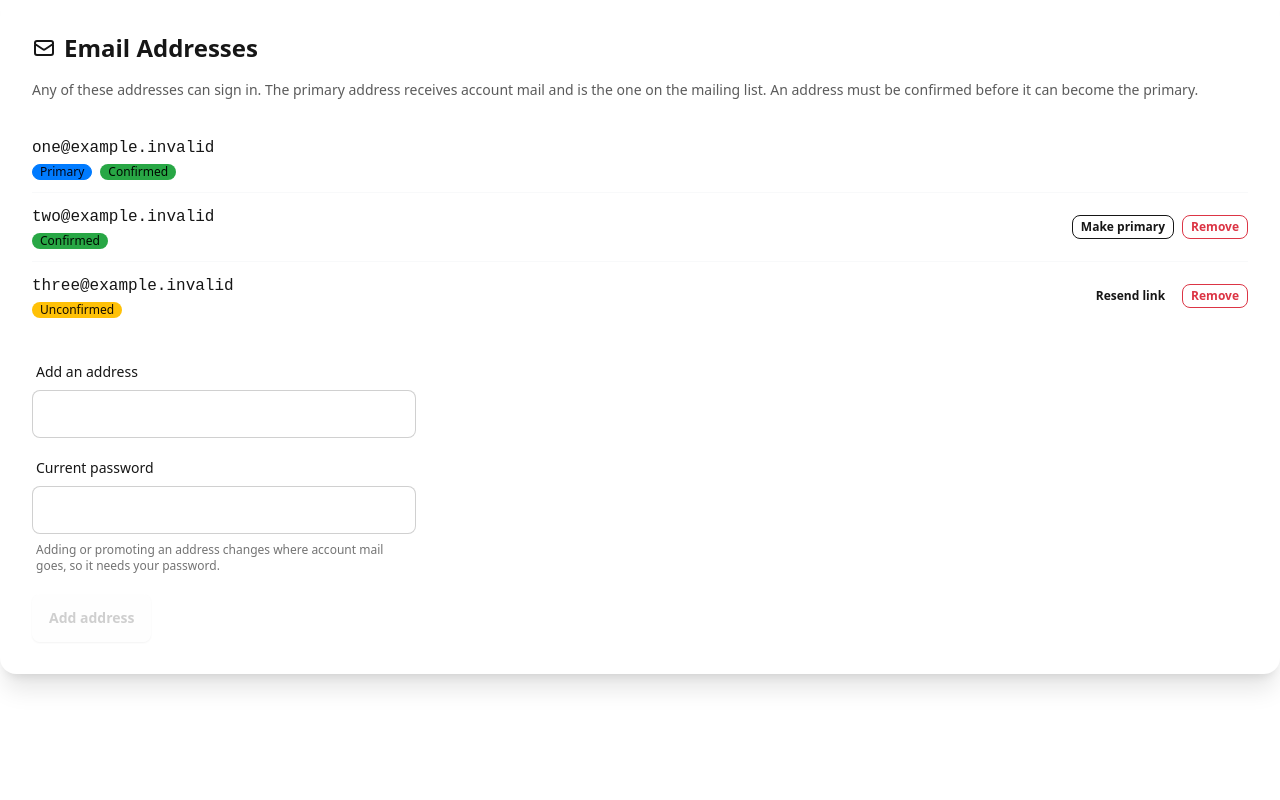
Scenario: EmailAddressesCard › sends the current password with a self-service add, and reloads
Type "  three@example.invalid " into the field.
click(224, 414); type("  three@example.invalid ")  # box [32,390,416,438]
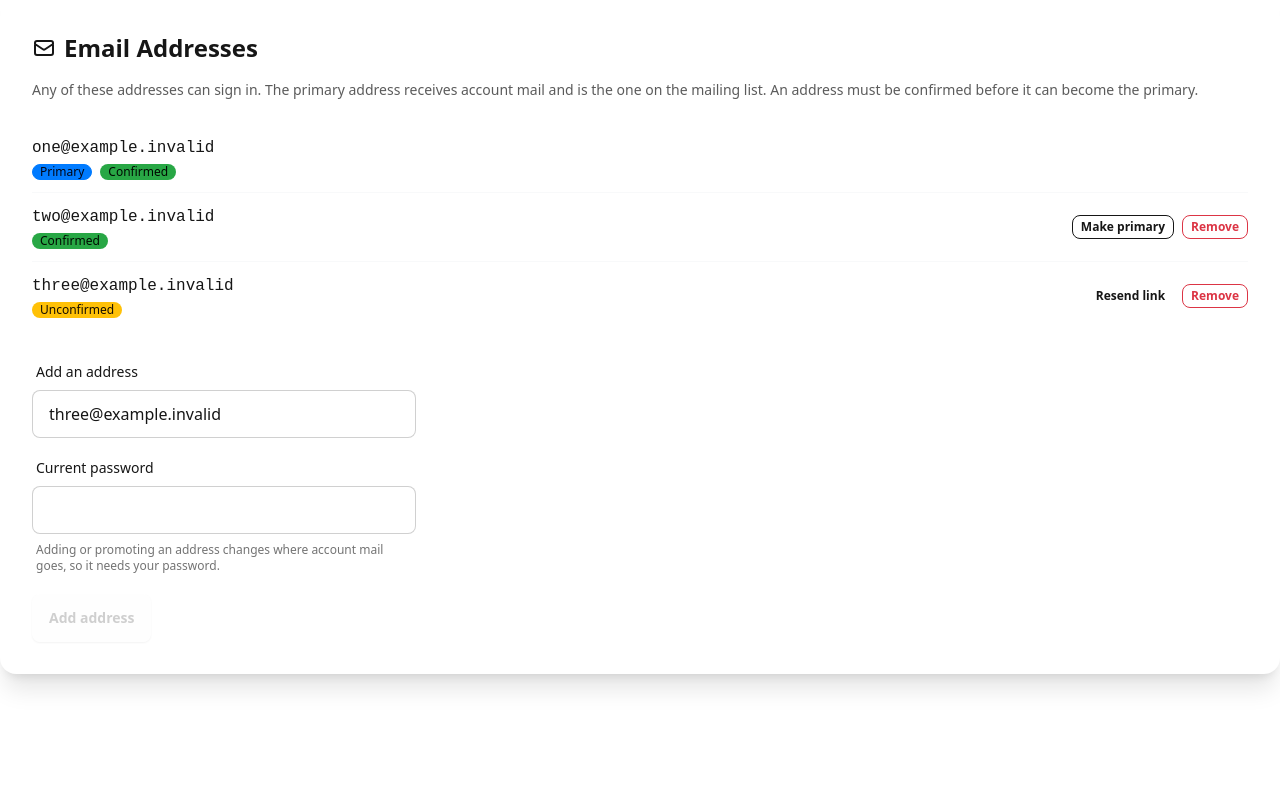
Type "hunter2hunter2" into the password field.
click(224, 510); type("hunter2hunter2")  # box [32,486,416,534]
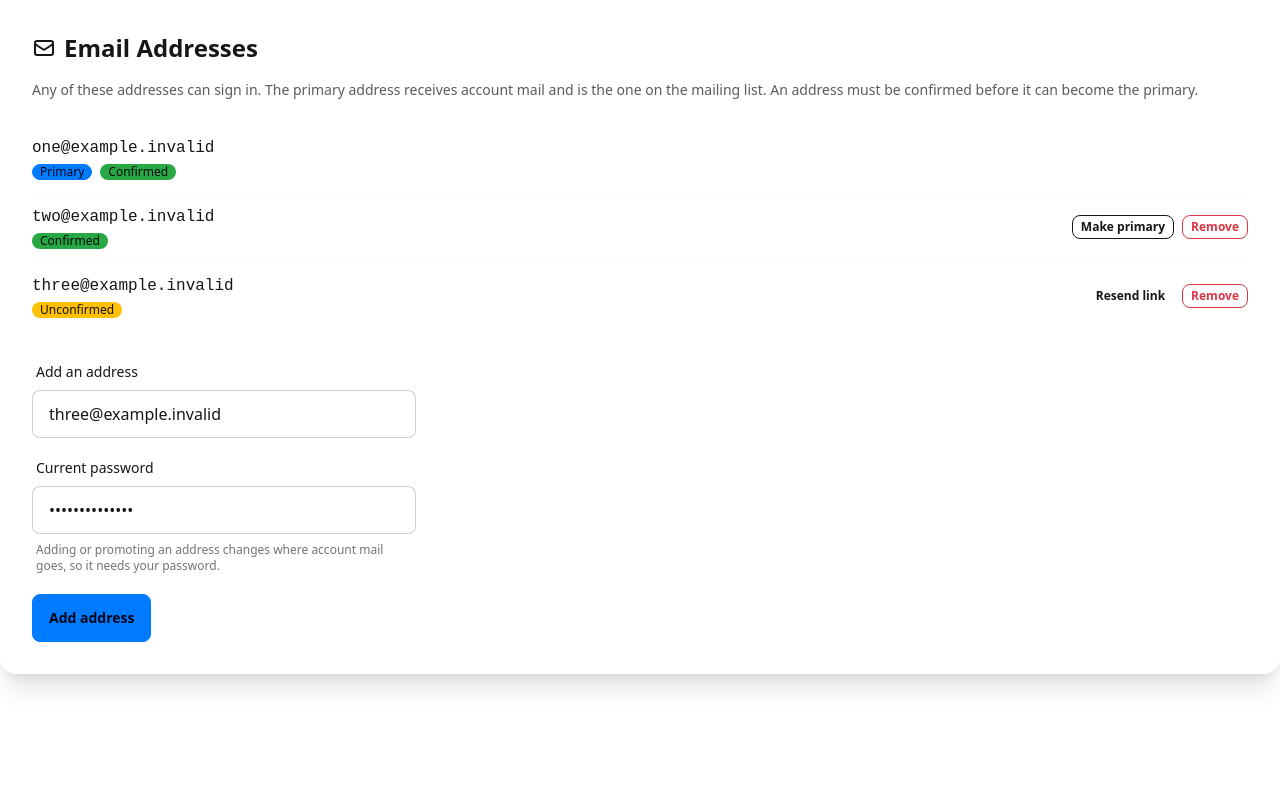
Submit the form, box [32,354,416,642]
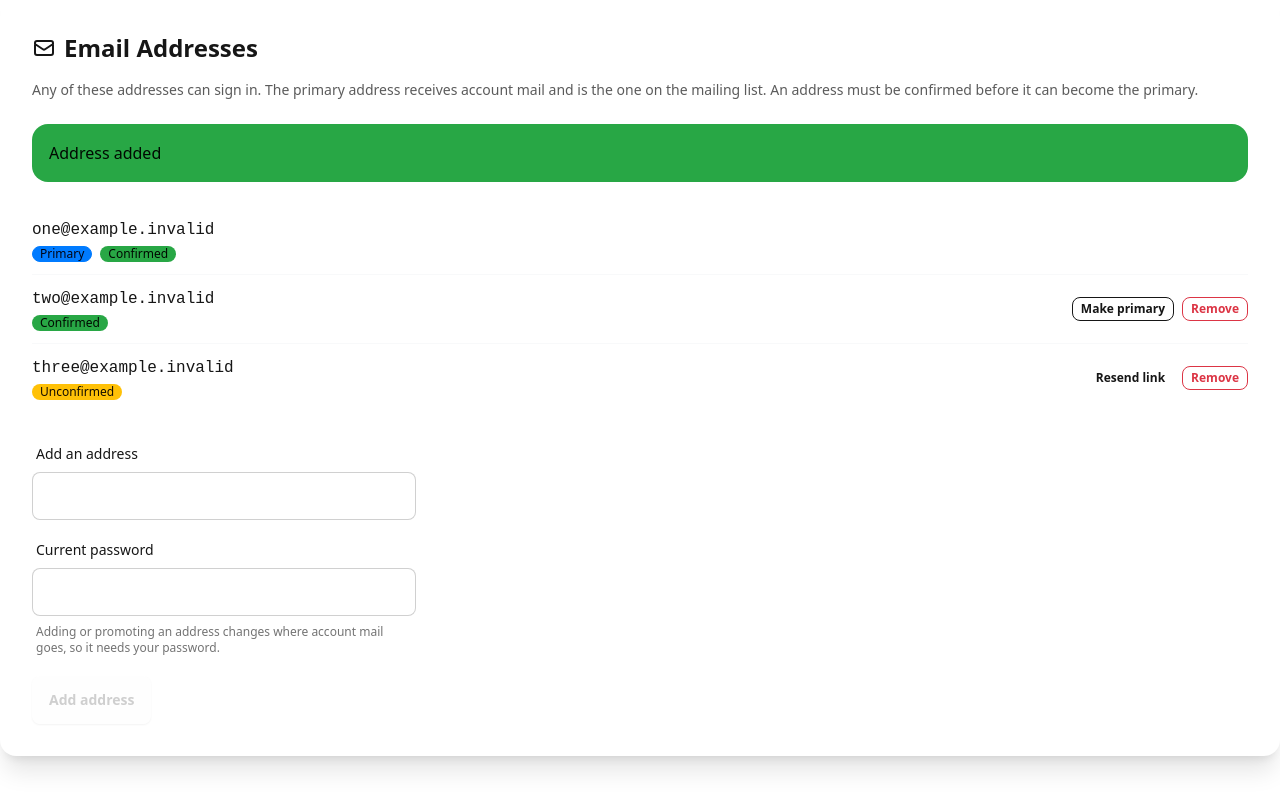
Check: the message "Address added" is shown, box [32,124,1248,182]
